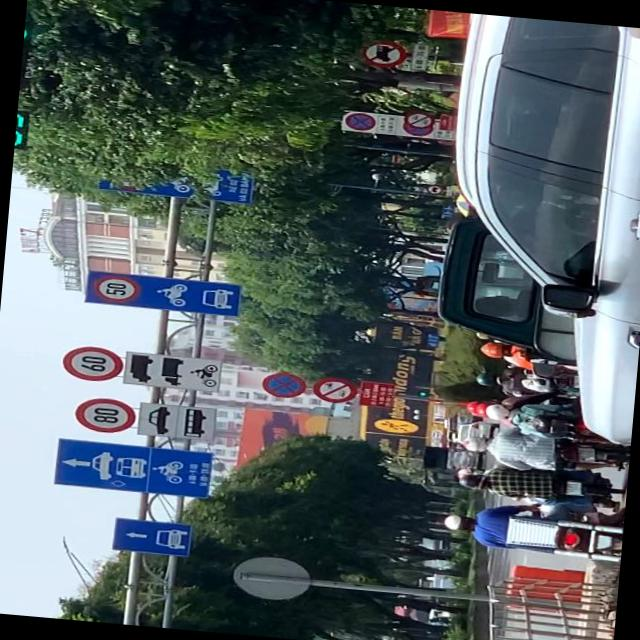P-127: (72, 392, 136, 434), (61, 342, 124, 382)
P-130: (260, 369, 308, 399)
